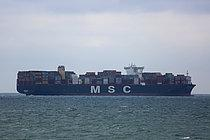Ship: (14, 63, 198, 98)
